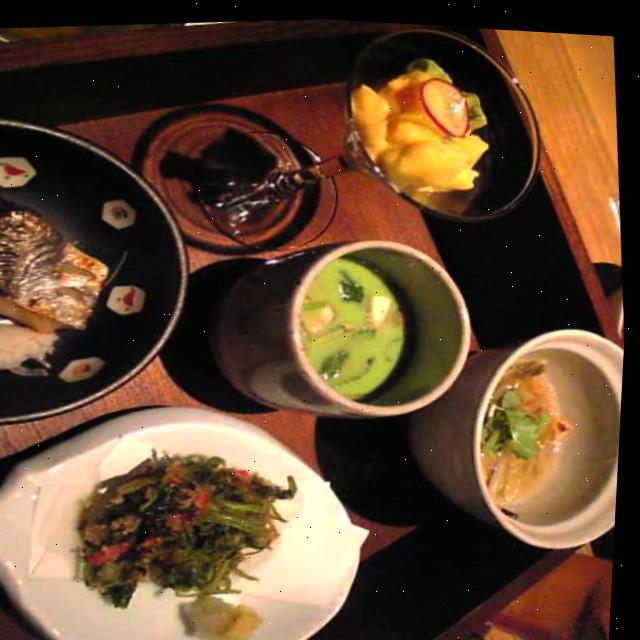鸡蛋料理: (189, 212, 504, 436)
